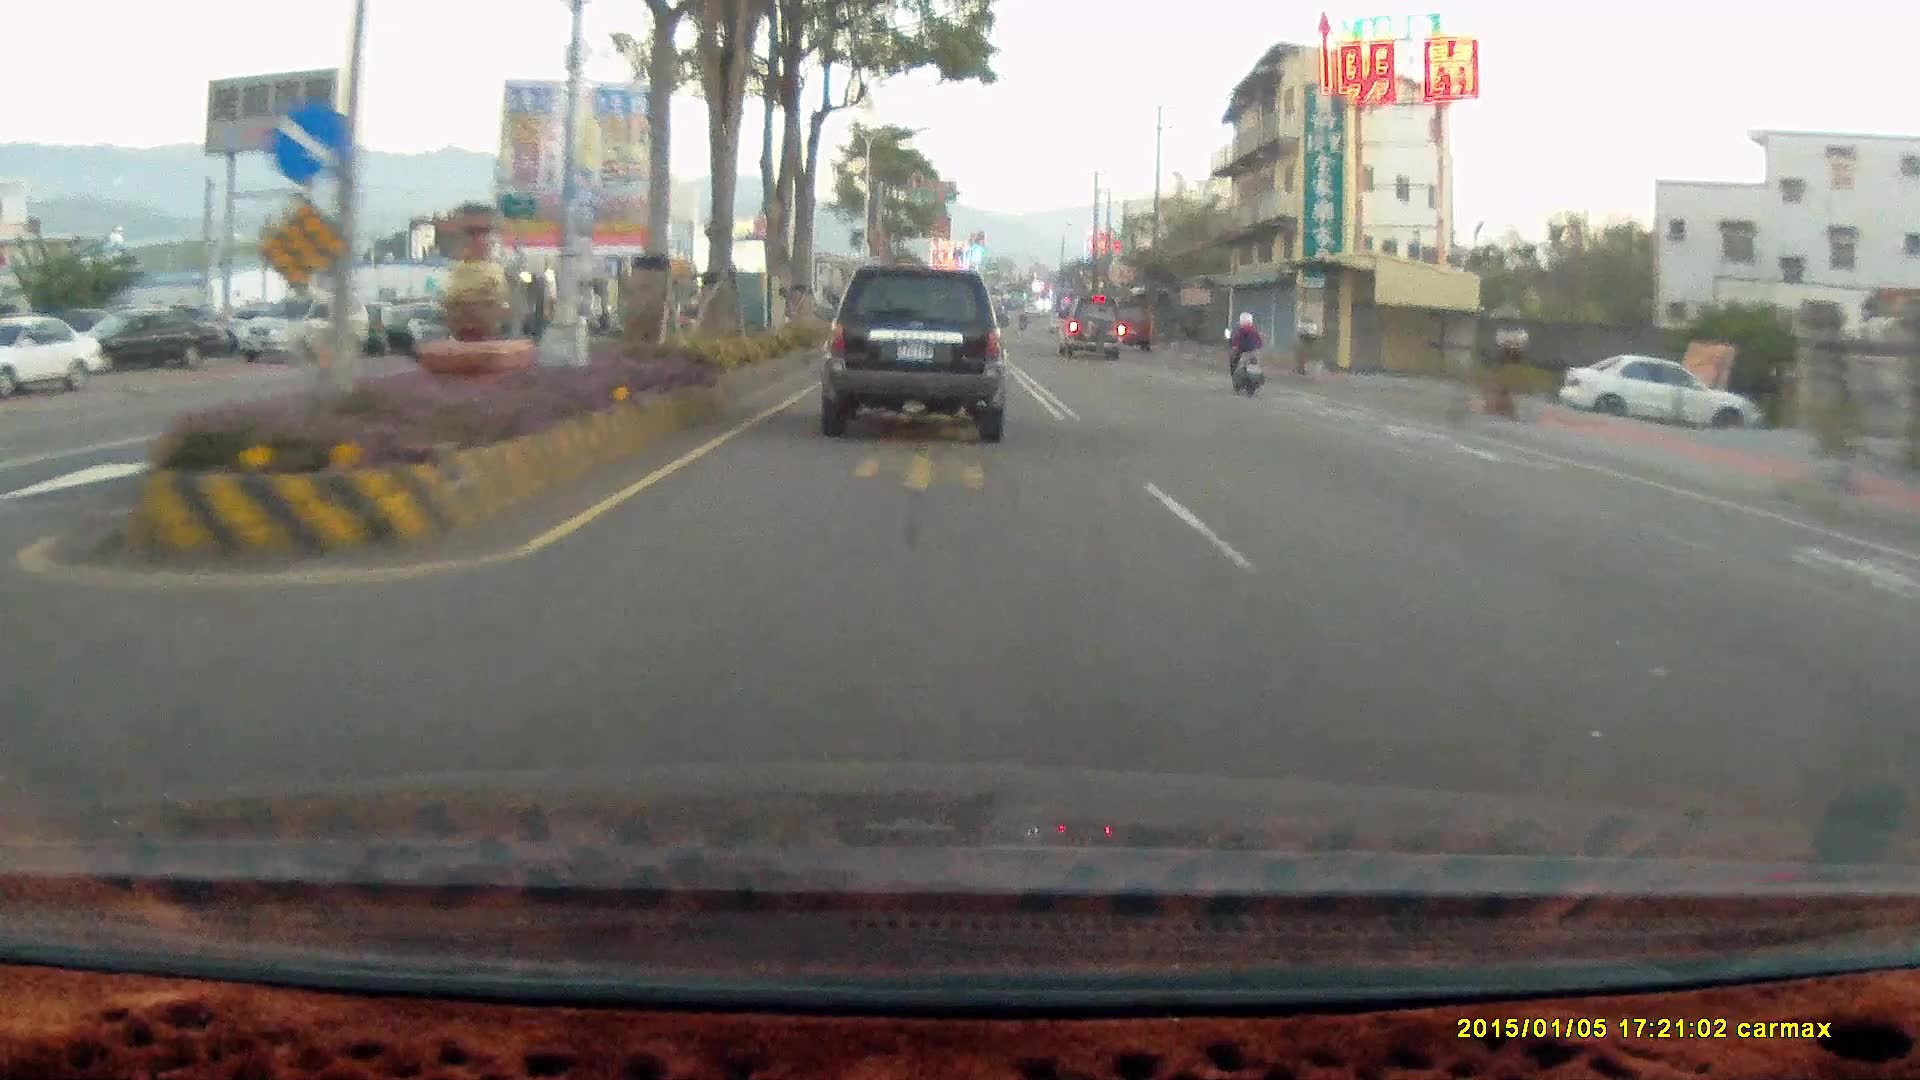rider: (1217, 305, 1274, 405), (1219, 311, 1262, 396)
vehicle: (817, 265, 1008, 443), (824, 265, 1012, 443), (1554, 352, 1758, 433), (1566, 358, 1763, 435), (63, 305, 239, 374), (60, 306, 232, 373), (237, 293, 372, 363), (1, 316, 107, 397), (408, 311, 512, 369), (411, 307, 504, 359), (1055, 295, 1122, 361), (1060, 295, 1125, 360), (1105, 299, 1152, 351)
